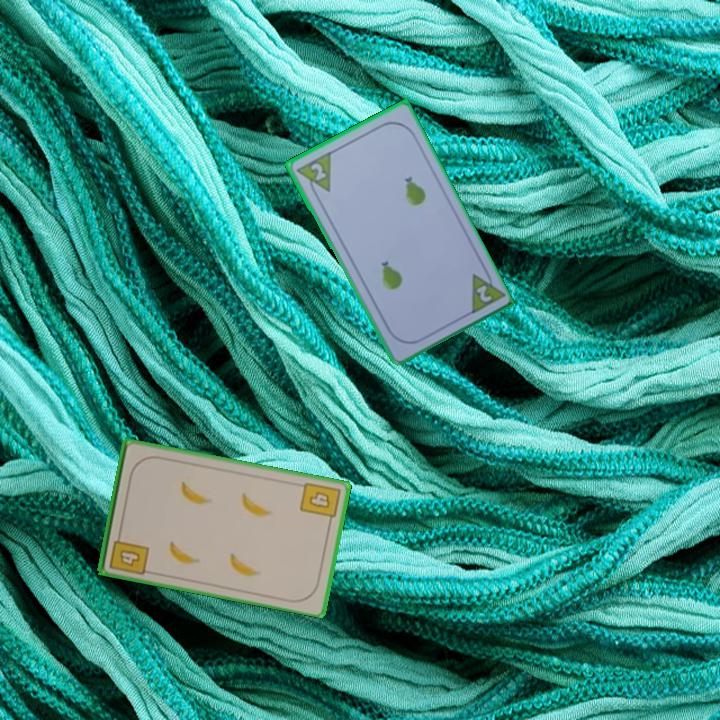2p: (292, 148, 334, 200), (472, 281, 495, 305)
4b: (296, 478, 343, 527), (106, 528, 152, 578)
